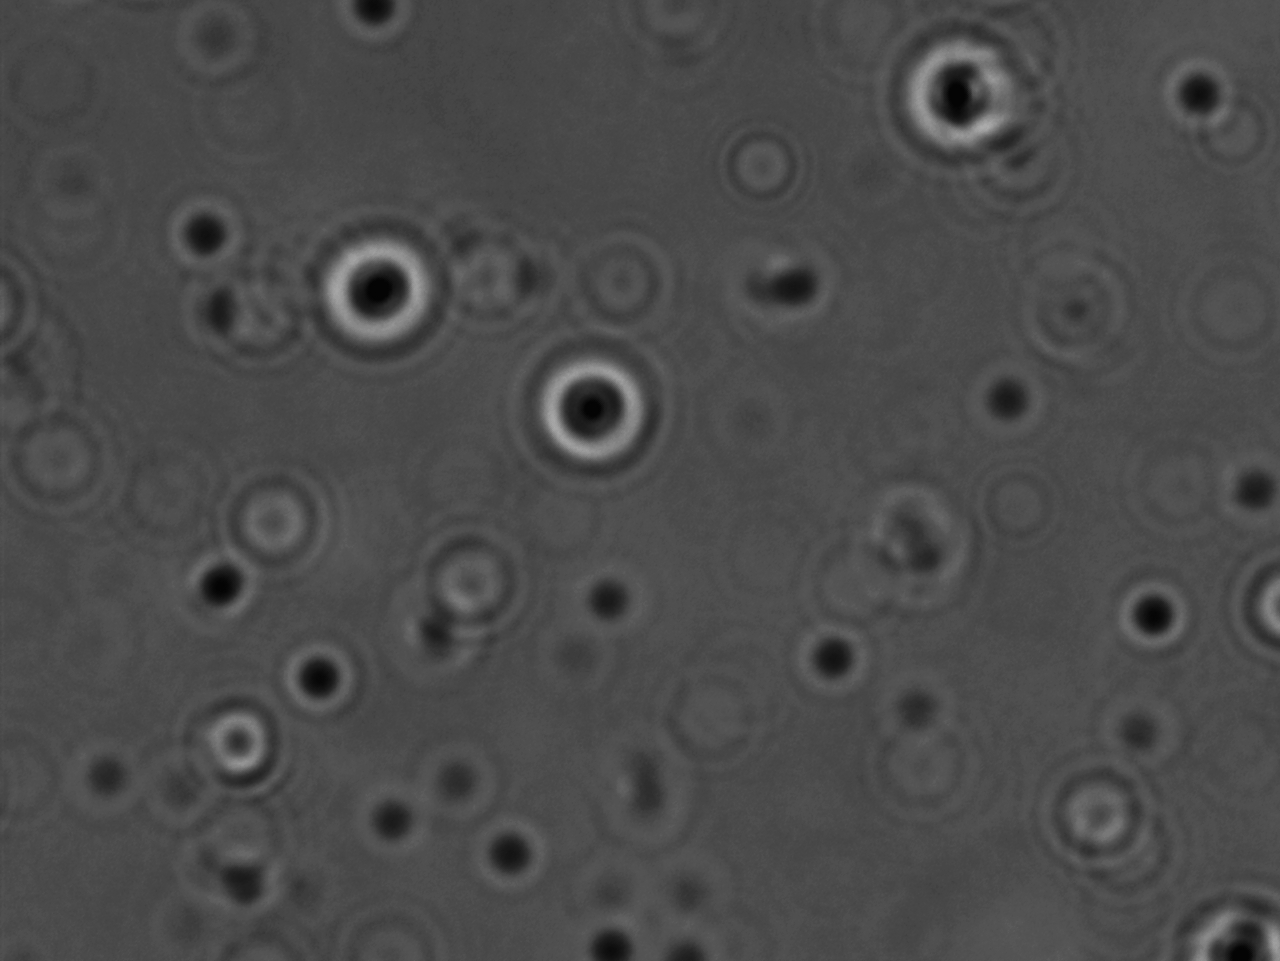depth:-24: (503, 335, 675, 499), (307, 219, 453, 357), (889, 30, 1029, 161)
